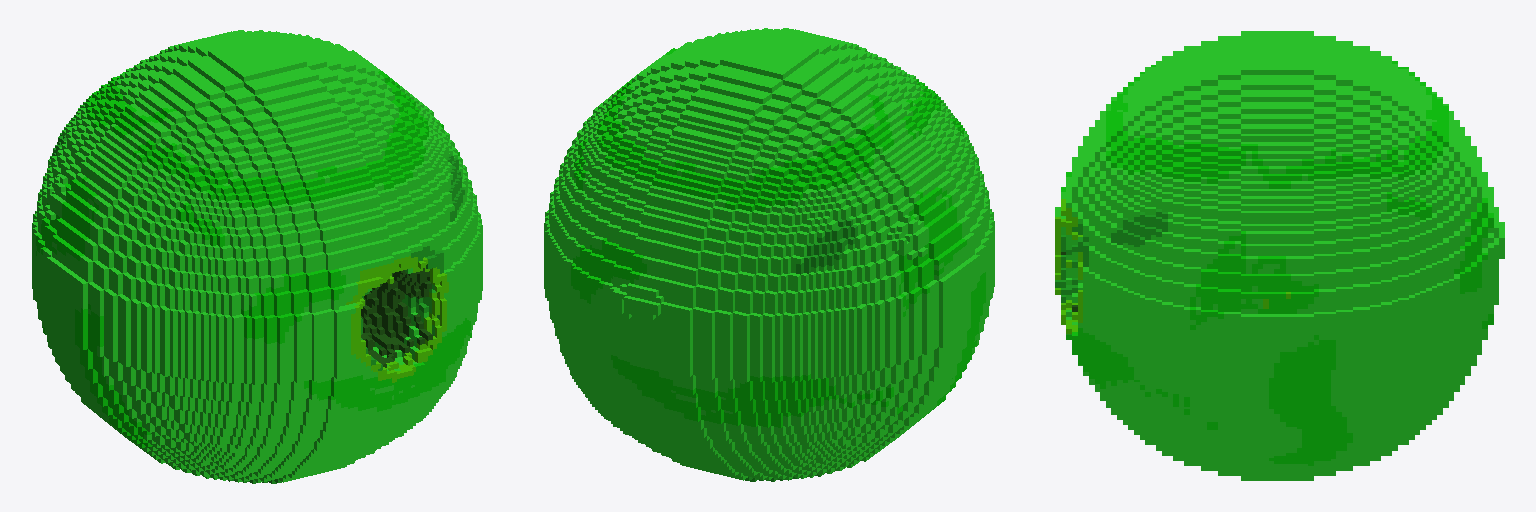
3 renders of one model, left to right at view 1: azimuth 30°, elevation 25°; view 2: azimuth 150°, elevation 25°; view 3: azimuth 270°, elevation 25°, orthographic.
Bounding box in the file's own units: 79 × 79 × 80.
Materials: 1 (1 with a texture image).